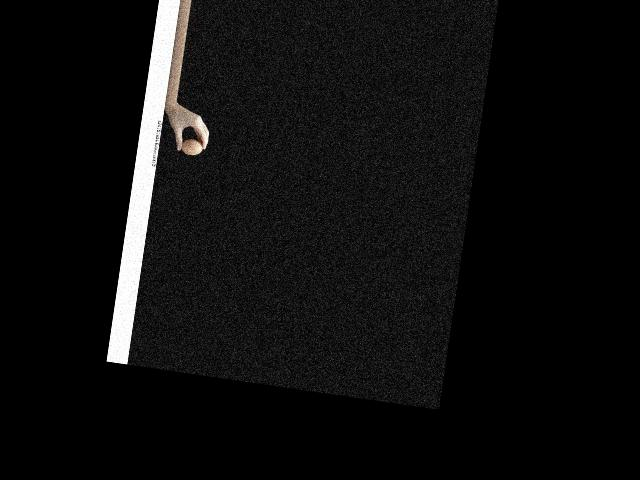egg: (180, 138, 204, 156)
